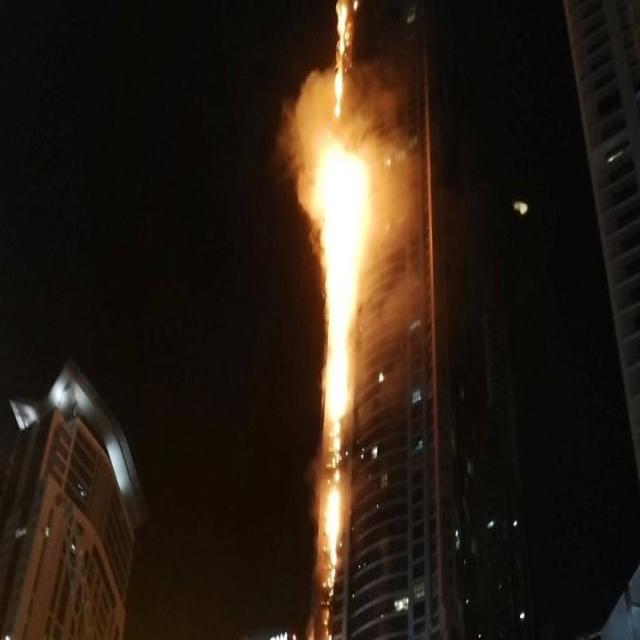fire: (308, 0, 372, 640)
